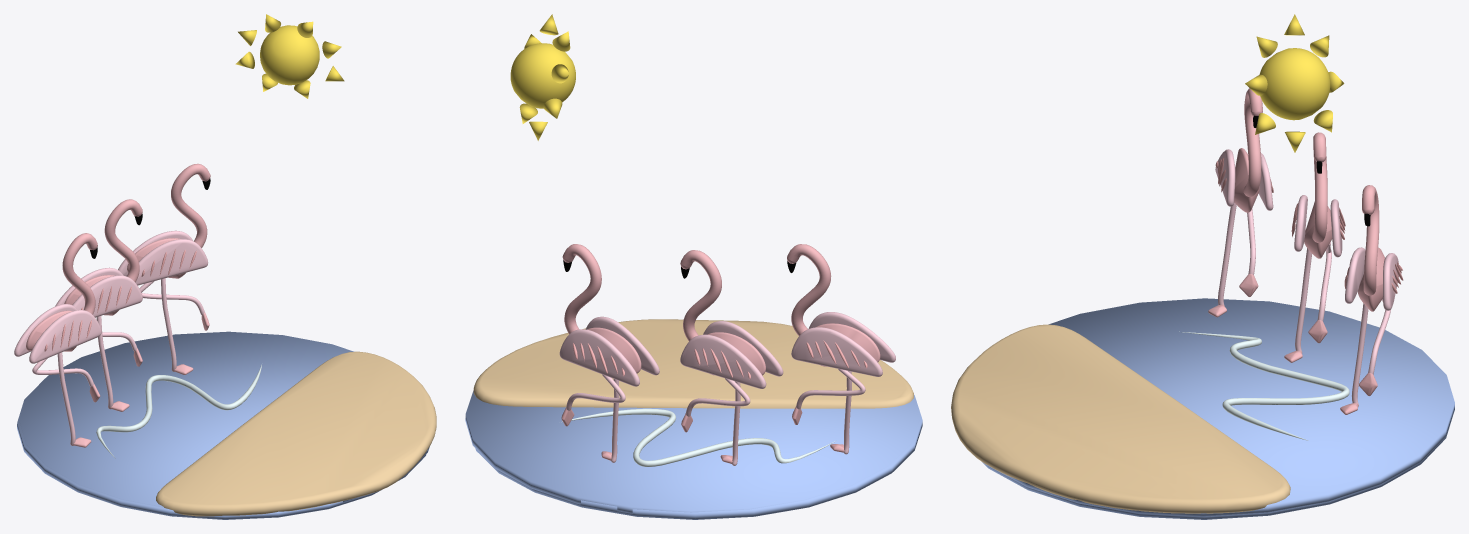
Rendered from flamingobeach.glb.
3 renders of one model, left to right at view 1: azimuth 30°, elevation 25°; view 2: azimuth 150°, elevation 25°; view 3: azimuth 270°, elevation 25°, orthographic. The views are drawn at different scales.
Visible parts, largest first — view 1: flamingo; view 2: flamingo; view 3: flamingo.
Part boxes in pixels (left/top/right/bottom): flamingo: left=14, top=14, right=436, bottom=519; flamingo: left=465, top=14, right=922, bottom=519; flamingo: left=951, top=14, right=1454, bottom=519.
Size of the model in its own units: 2.09 by 1.98 by 2.02.
